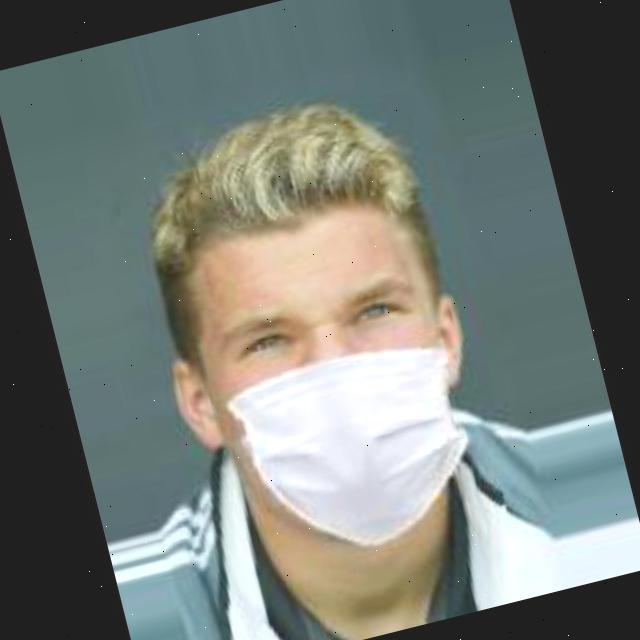suspicion: (77, 16, 592, 606)
